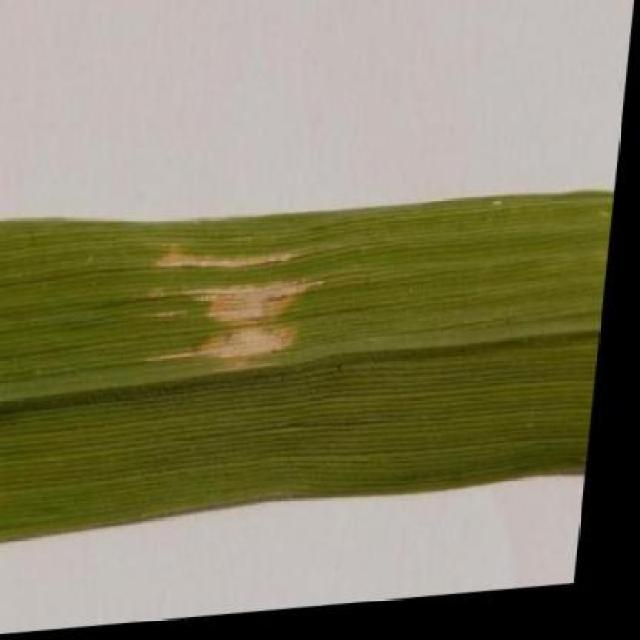Brown_Spot: (0, 178, 622, 556)
